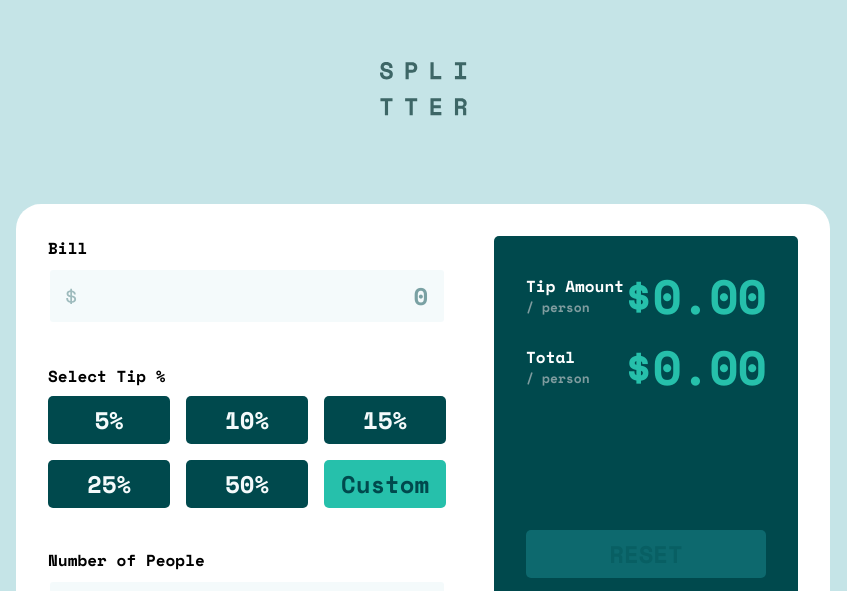
calculate total and tip › gets correct values
In the field labelled "Bill": x=254, y=296 [79, 278, 428, 314], type "142.55"
(page scrolled)
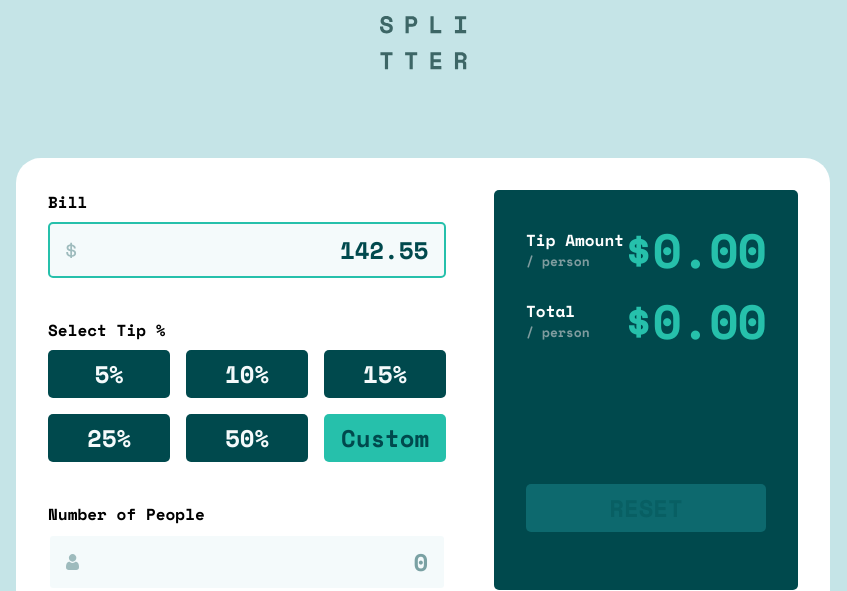
In the field labelled "Number of People": x=254, y=562 [79, 544, 428, 580], type "5"
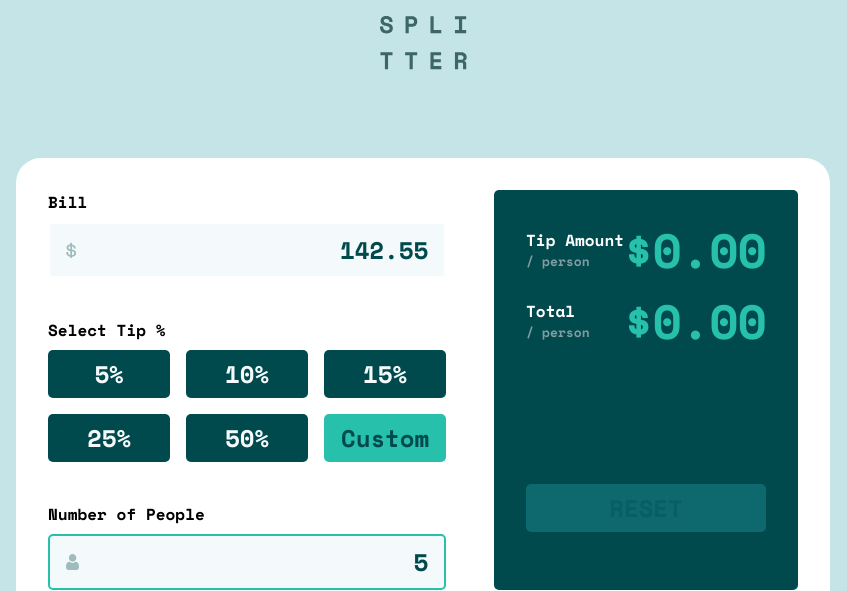
Click the button with test id "15,%": x=385, y=374 [324, 350, 446, 398]
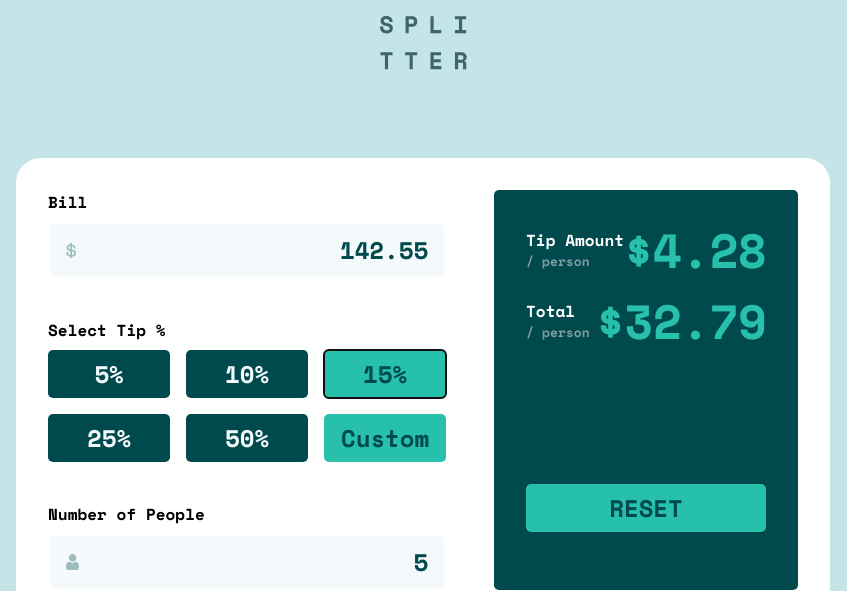
expect the text with test id "Tip Amount" reads "$4.28": met, box [624, 214, 766, 285]
expect the text with test id "Total" reads "$32.79": met, box [596, 285, 766, 356]
